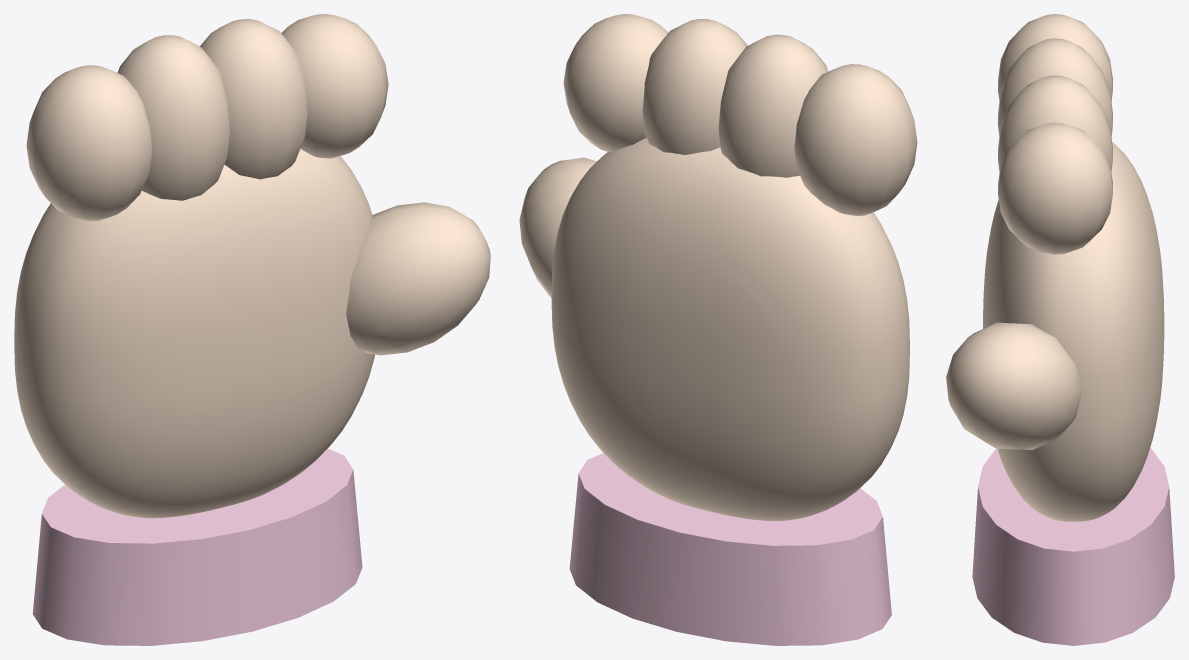
Rendered from hand_mitten.glb.
3 renders of one model, left to right at view 1: azimuth 30°, elevation 25°; view 2: azimuth 150°, elevation 25°; view 3: azimuth 270°, elevation 25°, orthographic. The views are drawn at different scales.
Visible parts, largest first — view 1: hand_mitten; view 2: hand_mitten; view 3: hand_mitten.
Boxes of the visible parts, x1,y1,x2,y2 form: hand_mitten: [14, 14, 490, 645]; hand_mitten: [519, 14, 917, 645]; hand_mitten: [946, 14, 1174, 645].
Bounding box in the file's own units: 0.97 × 1.26 × 0.5044.
